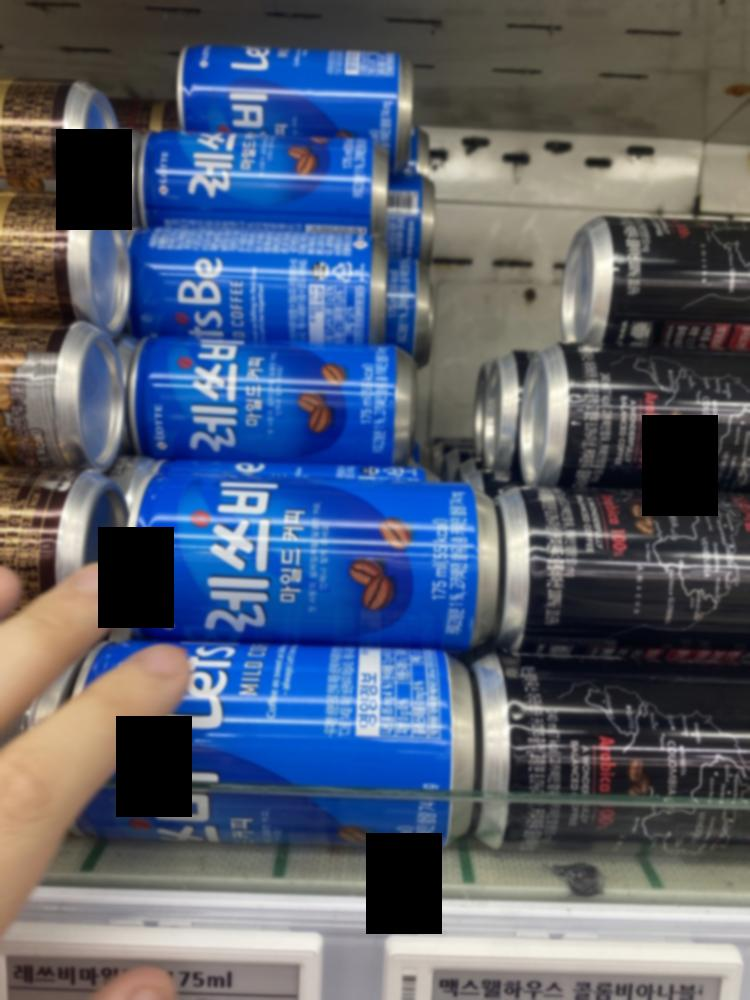letsbe: (118, 455, 494, 645), (133, 315, 415, 452)
